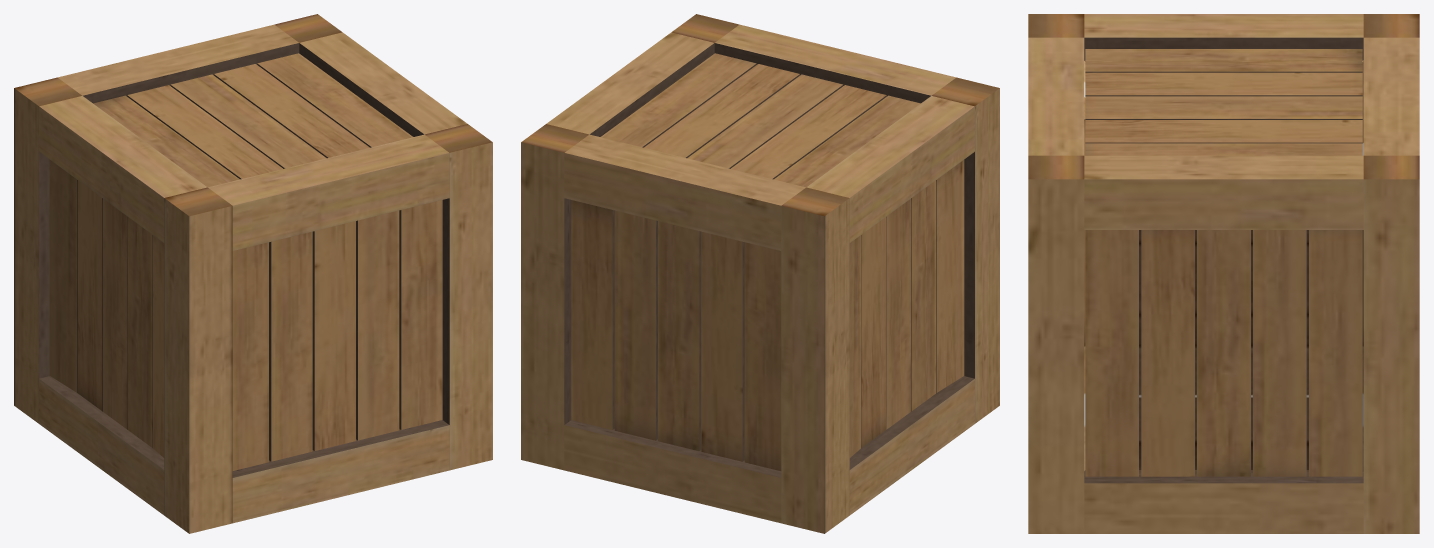
Rendered from TA-SM-boxloot.fbx.
3 views of the same model, side by side, from view 1: azimuth 30°, elevation 25°; view 2: azimuth 150°, elevation 25°; view 3: azimuth 270°, elevation 25° (orthographic). The views are drawn at different scales.
Visible parts, largest first — view 1: box; view 2: box; view 3: box.
Part boxes in pixels (bbox=[...]): box: bbox=[14, 14, 492, 533]; box: bbox=[521, 14, 999, 533]; box: bbox=[1028, 14, 1419, 533].
Bounding box in the file's own units: 0.8 × 0.8 × 0.8.
Materials: 1 (1 with a texture image).
